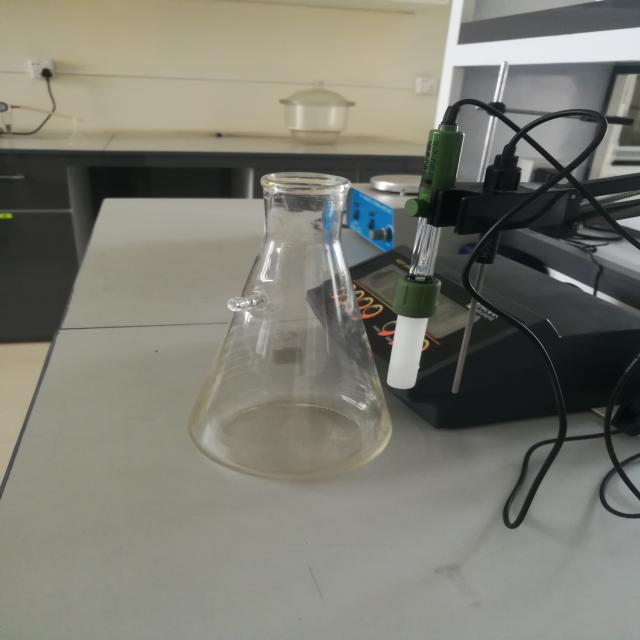Conical_Flask: (151, 136, 440, 508)
